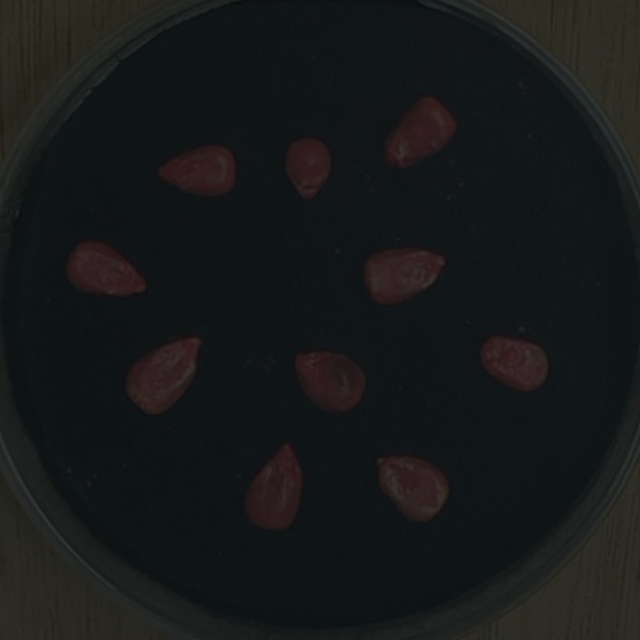Zea mays: (115, 326, 208, 423), (373, 88, 464, 177), (366, 444, 457, 529), (236, 433, 311, 536), (57, 230, 155, 306), (356, 237, 454, 313), (285, 342, 373, 421), (148, 134, 243, 203), (471, 326, 555, 400), (275, 128, 338, 208)
